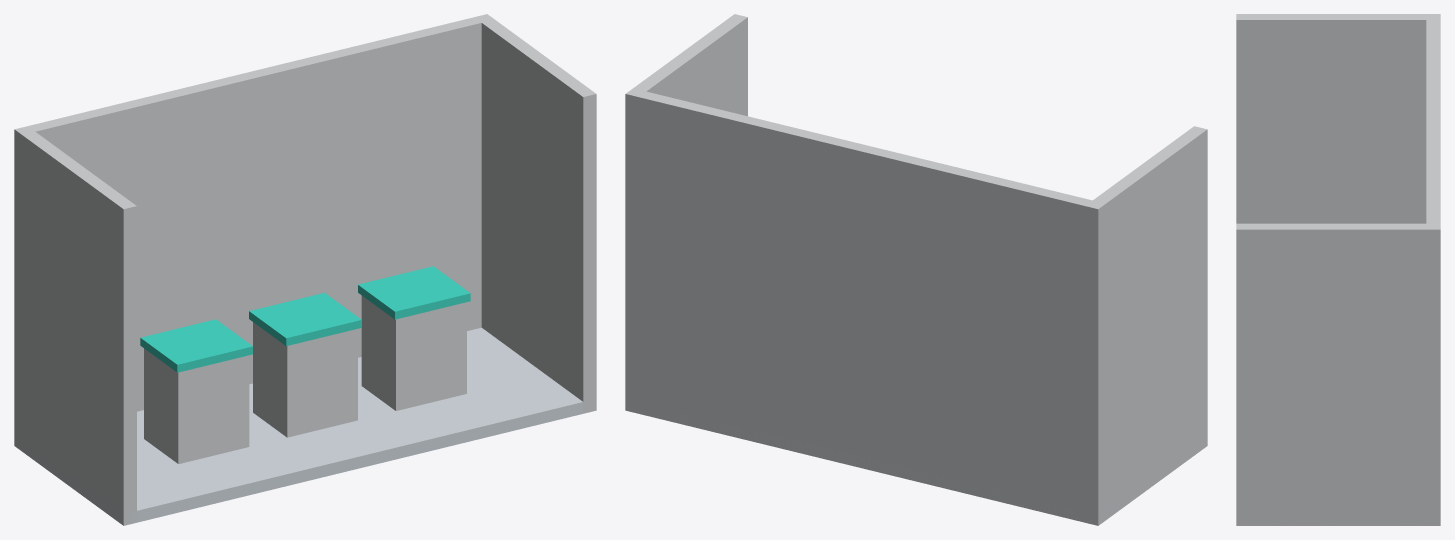
The picture shows the model from 3 angles, left to right: view 1: azimuth 30°, elevation 25°; view 2: azimuth 150°, elevation 25°; view 3: azimuth 270°, elevation 25°; orthographic projection. The views are drawn at different scales.
Parts seen in each view (by area): view 1: Exhibition Booth Concept; view 2: Exhibition Booth Concept; view 3: Exhibition Booth Concept.
Boxes of the visible parts, <box> form: Exhibition Booth Concept: <box>14,14,596,525</box>; Exhibition Booth Concept: <box>625,14,1207,525</box>; Exhibition Booth Concept: <box>1236,14,1440,525</box>.
Size of the model in its own units: 5 by 3.2 by 2.
